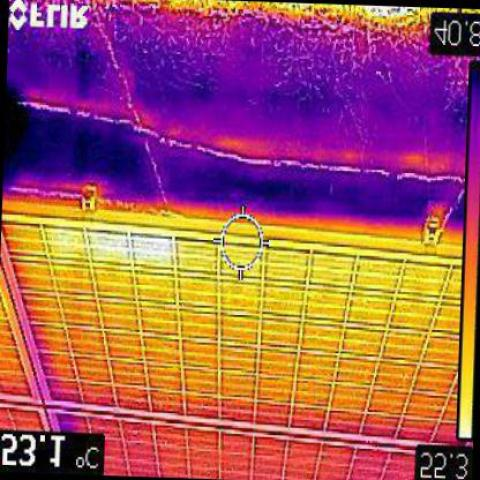fault: (76, 227, 169, 263)
